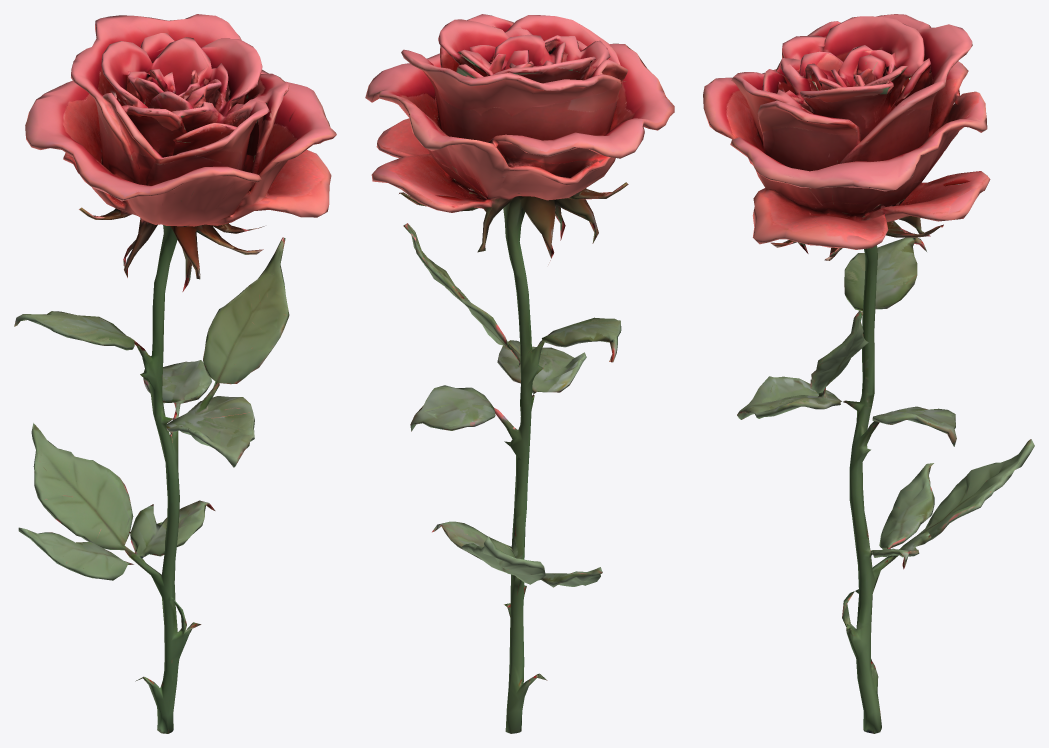
The model's file is rose.glb.
The picture shows the model from 3 angles, left to right: view 1: azimuth 30°, elevation 25°; view 2: azimuth 150°, elevation 25°; view 3: azimuth 270°, elevation 25°; orthographic projection.
Visible parts, largest first — view 1: Mesh_0; view 2: Mesh_0; view 3: Mesh_0.
Boxes of the visible parts, x1,y1,x2,y2 form: Mesh_0: (14,14,336,733); Mesh_0: (365,14,674,733); Mesh_0: (703,14,1034,733).
Size of the model in its own units: 0.2058 by 0.5 by 0.2174.
Materials: 1 (1 with a texture image).
